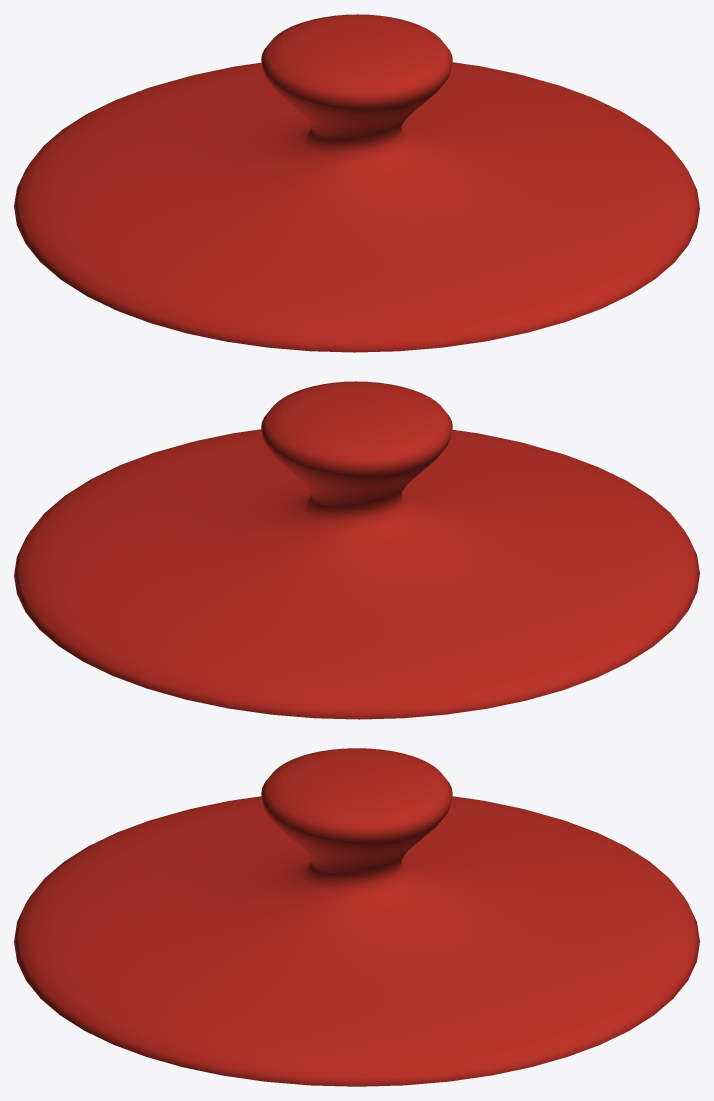
Rendered from lid.obj.
The picture shows the model from 3 angles, top to bottom: view 1: azimuth 30°, elevation 25°; view 2: azimuth 150°, elevation 25°; view 3: azimuth 270°, elevation 25°; orthographic projection.
Visible parts, largest first — view 1: Lid; view 2: Lid; view 3: Lid.
Part boxes in pixels (x1,y1,x2,y2): Lid: (14, 14, 699, 352); Lid: (14, 381, 699, 719); Lid: (14, 748, 699, 1086).
Size of the model in its own units: 1.18 by 0.315 by 1.18.
